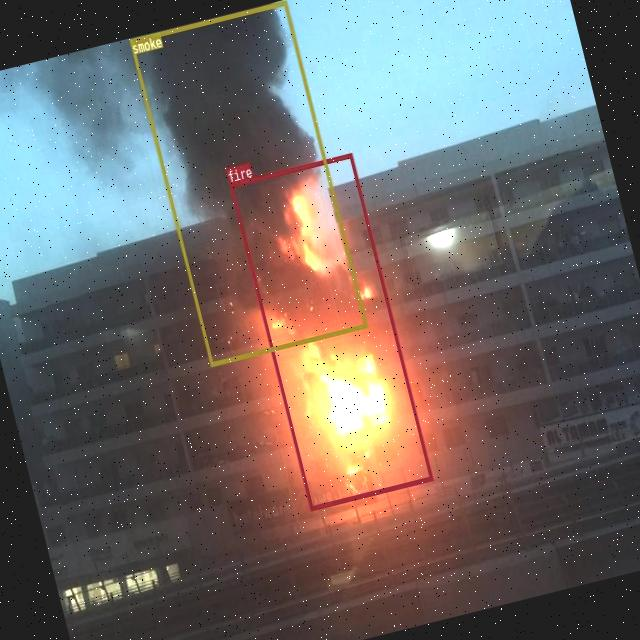fire: (228, 152, 432, 510)
smoke: (128, 0, 366, 365)
